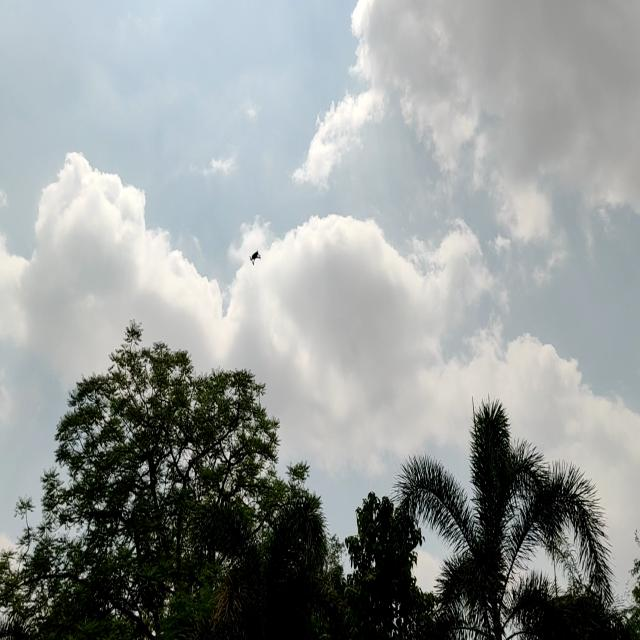drone: (245, 246, 265, 269)
